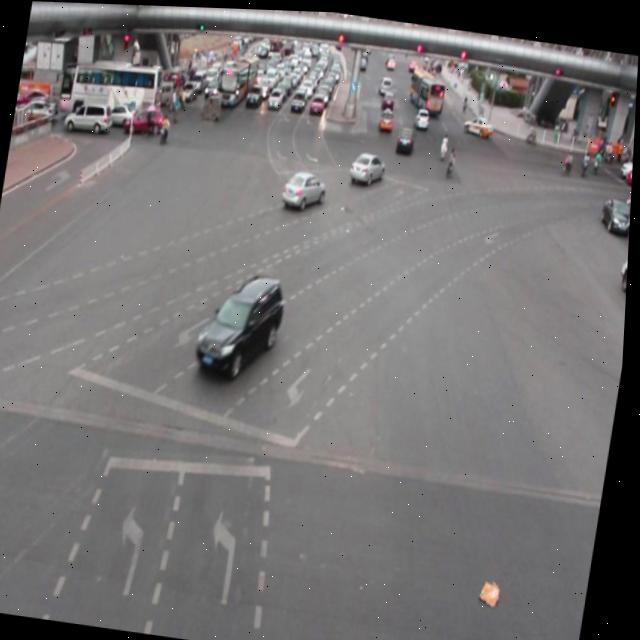car: (192, 263, 293, 383), (279, 164, 330, 212), (347, 144, 388, 185)
